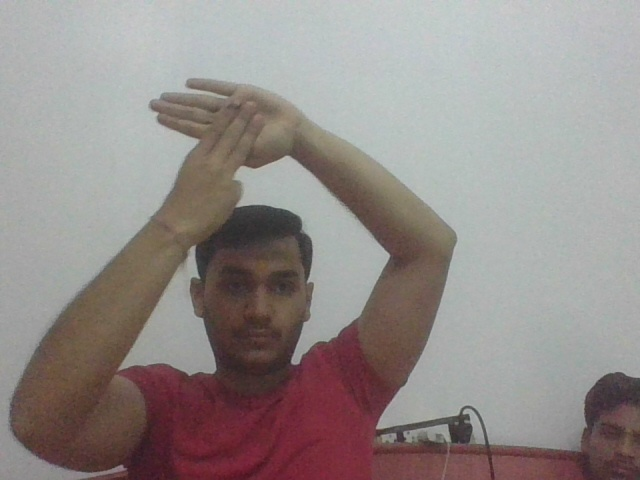M: (141, 74, 294, 208)
